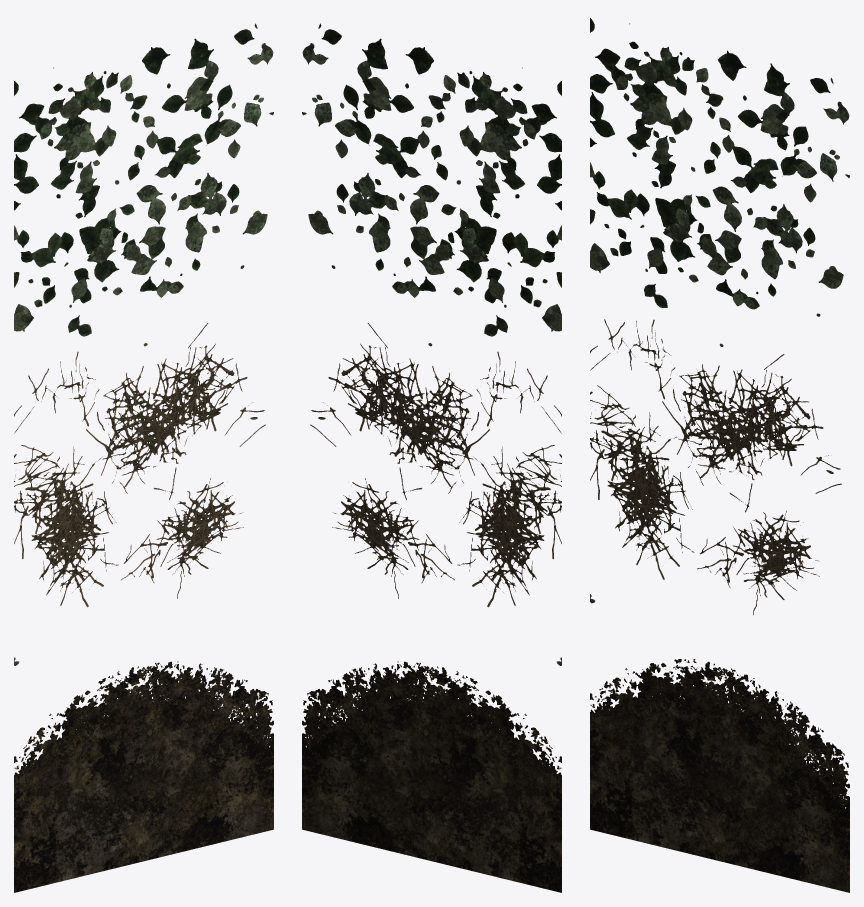
Rendered from banner.fbx.
The picture shows the model from 3 angles, left to right: view 1: azimuth 30°, elevation 25°; view 2: azimuth 150°, elevation 25°; view 3: azimuth 330°, elevation 25°; orthographic projection.
Visible parts, largest first — view 1: Plane_138; view 2: Plane_138; view 3: Plane_138.
Part boxes in pixels (bbox=[...]): Plane_138: bbox=[14, 23, 273, 892]; Plane_138: bbox=[302, 23, 561, 892]; Plane_138: bbox=[590, 17, 849, 892].
Size of the model in its own units: 2 by 6 by 1.84e-06.
